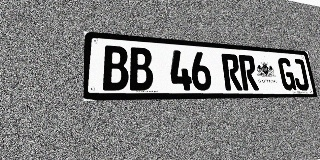4: (169, 50, 192, 90)
6: (190, 51, 212, 90)
B: (103, 45, 129, 91), (128, 47, 154, 90)
G: (277, 57, 297, 90)
J: (291, 58, 310, 90)
R: (221, 53, 243, 90), (238, 55, 259, 90)
